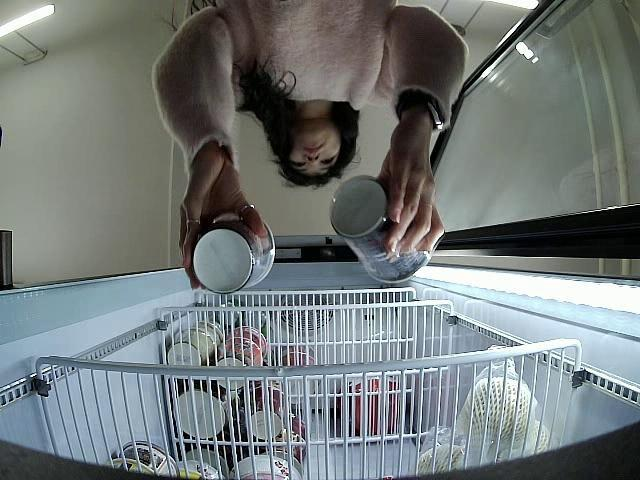08_buldak_S: (330, 178, 431, 284), (192, 219, 276, 294)
